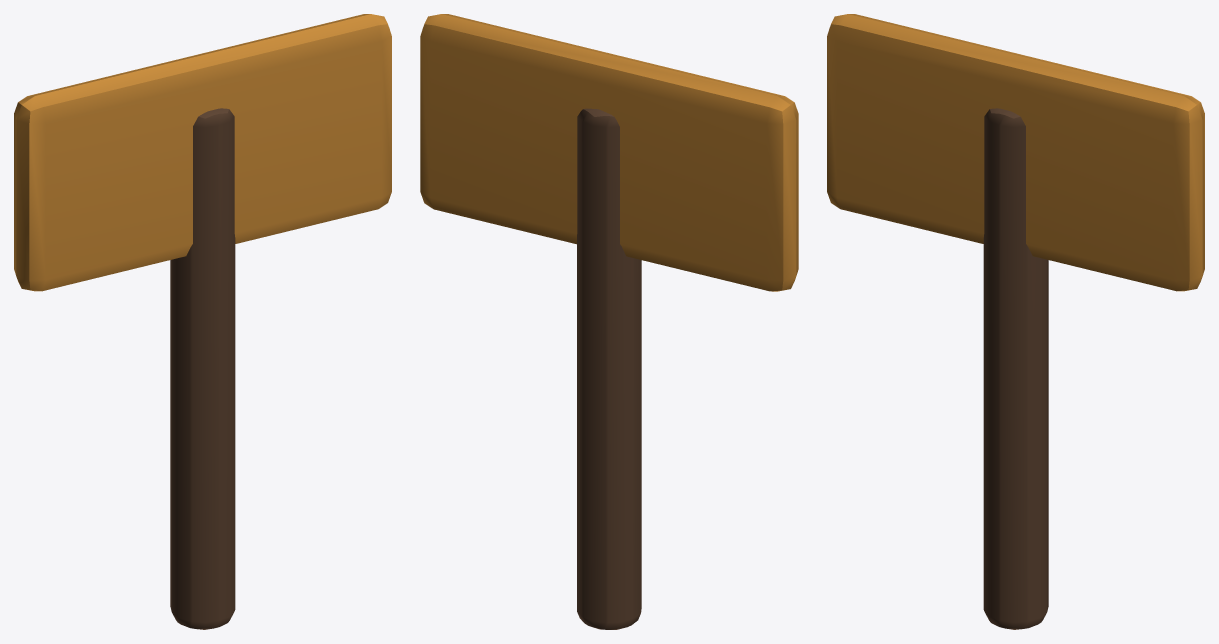
Rendered from prop_sign.glb.
The picture shows the model from 3 angles, left to right: view 1: azimuth 30°, elevation 25°; view 2: azimuth 150°, elevation 25°; view 3: azimuth 330°, elevation 25°; orthographic projection.
Visible parts, largest first — view 1: sign_board, sign_pole; view 2: sign_board, sign_pole; view 3: sign_board, sign_pole.
Boxes of the visible parts, x1,y1,x2,y2 form: sign_board: (14, 14, 391, 291); sign_pole: (170, 108, 235, 629); sign_board: (420, 14, 798, 291); sign_pole: (577, 108, 641, 629); sign_board: (827, 14, 1204, 291); sign_pole: (983, 108, 1048, 629).
Size of the model in its own units: 0.6 by 0.87 by 0.091.
